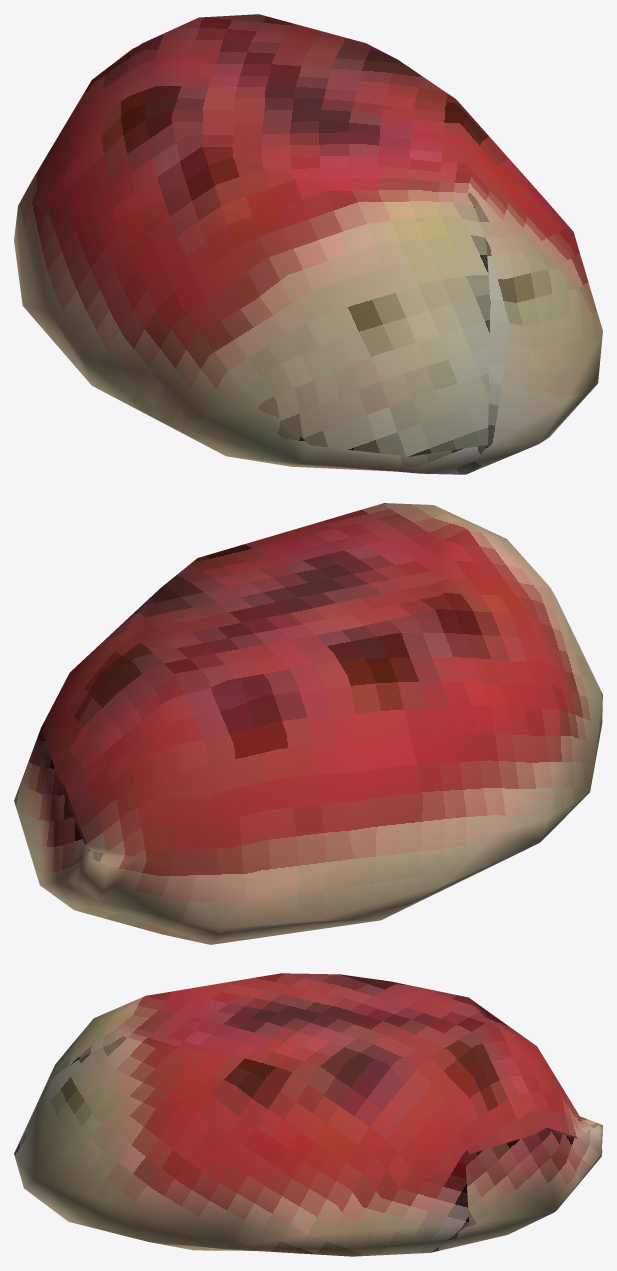
Rendered from LADYBUG_BEAD-low.glb.
3 views of the same model, one above another, from view 1: azimuth 30°, elevation 25°; view 2: azimuth 150°, elevation 25°; view 3: azimuth 270°, elevation 25° (orthographic). The views are drawn at different scales.
Visible parts, largest first — view 1: LADYBUG_BEAD; view 2: LADYBUG_BEAD; view 3: LADYBUG_BEAD.
Part boxes in pixels (x1,y1,x2,y2): LADYBUG_BEAD: (14,14,602,474); LADYBUG_BEAD: (14,503,602,944); LADYBUG_BEAD: (14,973,602,1256).
Size of the model in its own units: 0.0571 by 0.0299 by 0.0838.
1 material, 1 textured.
